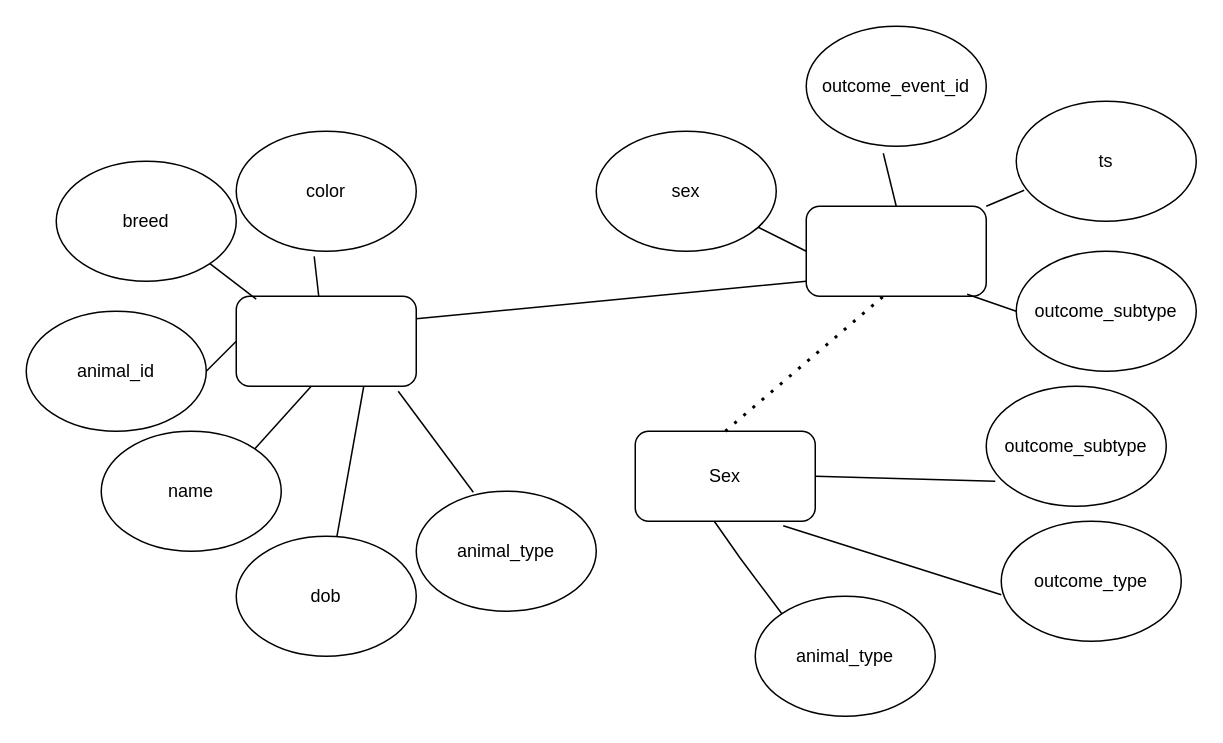
Some shapes in this 1223 by 743 pixel diagram are drawn without their labels. The shapes that lost their labels are listed below. From the top down, each one's centre as x and y in pixels, then its label:
At point 895,250: "Outcomes".
At point 325,340: "Animal".
